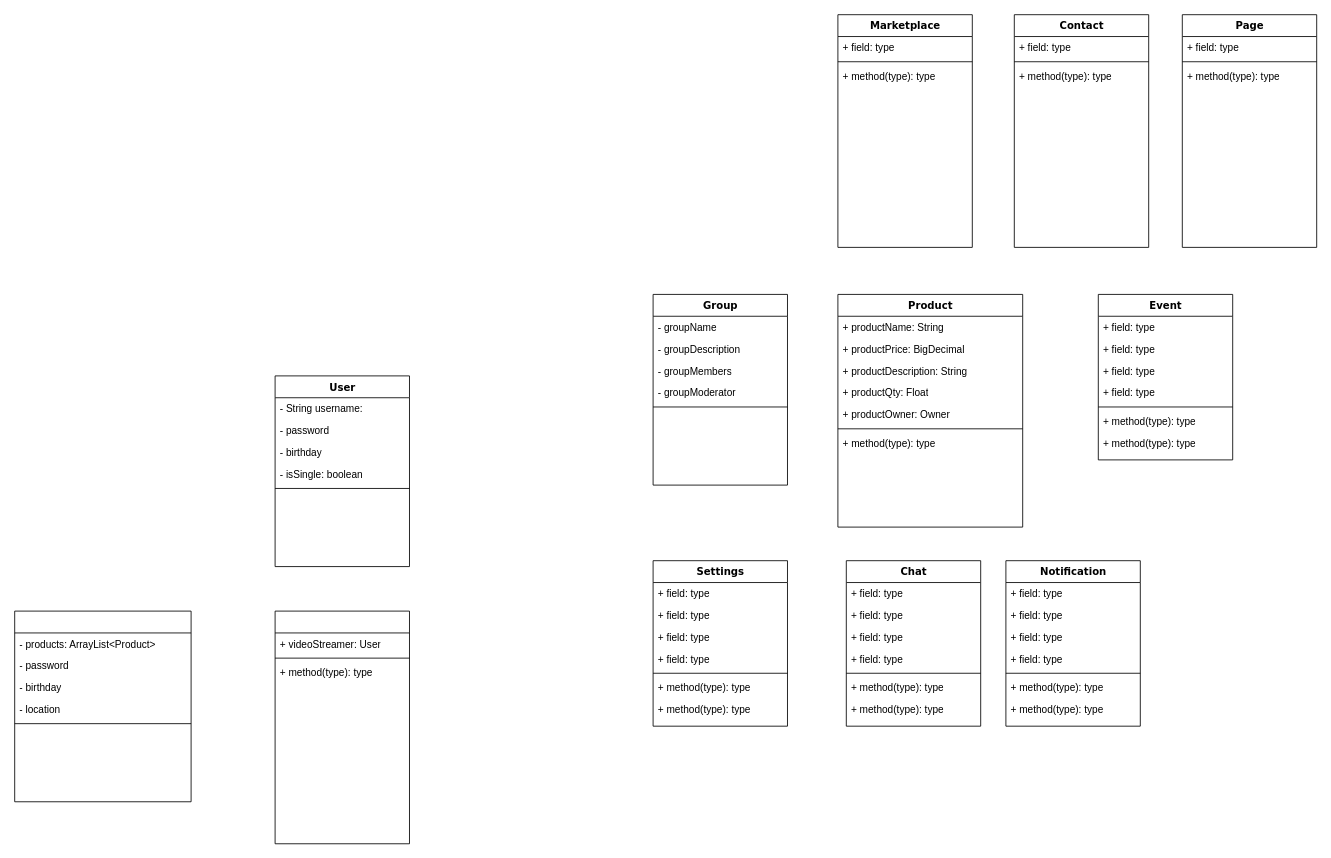
This 1331x858 diagram has some shape labels left out. The box of each missing label's shape, as (x1, y1, x2, y2) in pixels:
Gamer: (274, 610, 410, 844)
ProductOwner: (14, 610, 191, 802)
